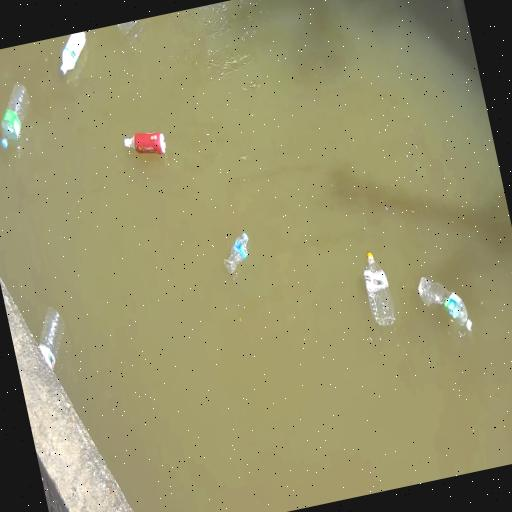plastic: (418, 277, 471, 332), (362, 251, 396, 327), (0, 84, 29, 149), (38, 308, 63, 371), (223, 233, 248, 280), (59, 32, 85, 75), (123, 132, 165, 155)
